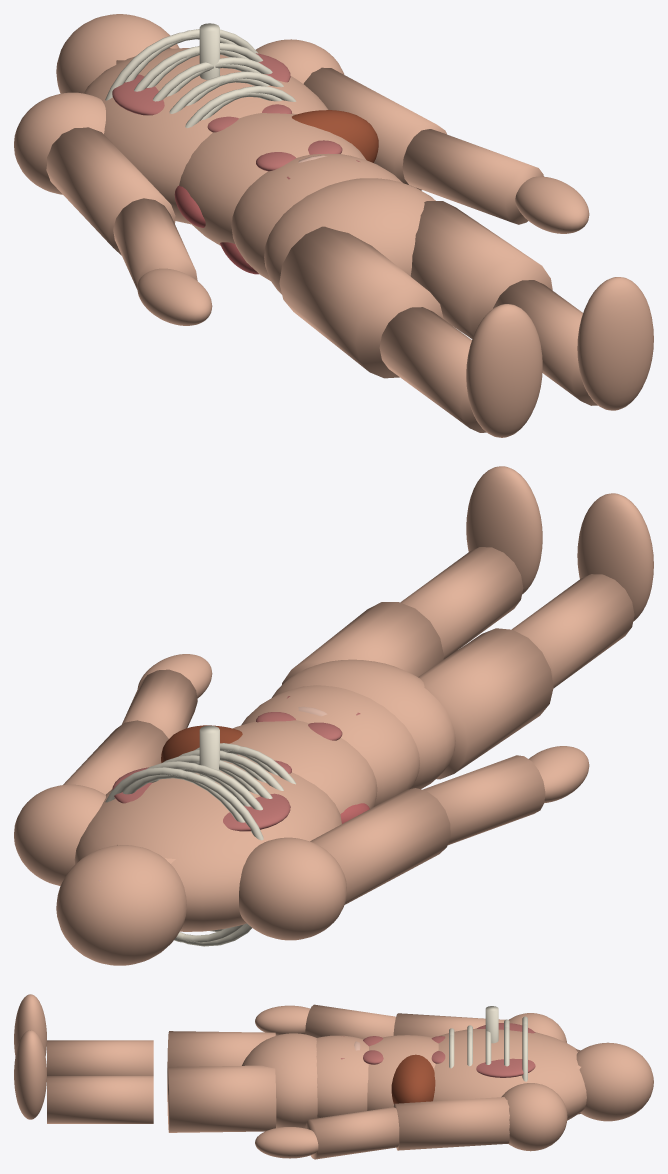
File: body_full.glb
3 views of the same model, one above another, from view 1: azimuth 30°, elevation 25°; view 2: azimuth 150°, elevation 25°; view 3: azimuth 270°, elevation 25° (orthographic). The views are drawn at different scales.
Visible parts, largest first — view 1: ANAT_REGION_LEFT_LEG, ANAT_REGION_CHEST, ANAT_REGION_RIGHT_LEG, ANAT_REGION_PELVIS, ANAT_REGION_UPPER_ABDOMEN, ANAT_REGION_LEFT_FOOT, ANAT_REGION_RIGHT_FOOT, ANAT_REGION_RIGHT_FOREARM, ANAT_REGION_LEFT_ARM, ANAT_REGION_LEFT_SHIN, ANAT_REGION_LOWER_ABDOMEN, ANAT_REGION_RIGHT_ARM (+21 smaller); view 2: ANAT_REGION_CHEST, ANAT_REGION_HEAD, ANAT_REGION_LEFT_LEG, ANAT_REGION_LEFT_SHOULDER, ANAT_REGION_LEFT_ARM, ANAT_REGION_LOWER_ABDOMEN, ANAT_REGION_PELVIS, ANAT_REGION_LEFT_SHIN, ANAT_REGION_RIGHT_SHIN, ANAT_REGION_UPPER_ABDOMEN, ANAT_REGION_LEFT_FOREARM, ANAT_REGION_RIGHT_LEG (+13 smaller); view 3: ANAT_REGION_CHEST, ANAT_REGION_RIGHT_LEG, ANAT_REGION_RIGHT_ARM, ANAT_REGION_RIGHT_SHIN, ANAT_REGION_HEAD, ANAT_REGION_PELVIS, ANAT_REGION_LOWER_ABDOMEN, ANAT_REGION_LEFT_SHIN, ANAT_REGION_RIGHT_FOREARM, ANAT_REGION_RIGHT_SHOULDER, ANAT_REGION_LEFT_LEG, ANAT_REGION_UPPER_ABDOMEN (+11 smaller).
Part boxes in pixels (bbox=[...]): ANAT_REGION_LEFT_LEG: bbox=[279, 226, 443, 378]; ANAT_REGION_CHEST: bbox=[84, 48, 328, 224]; ANAT_REGION_RIGHT_LEG: bbox=[410, 201, 552, 338]; ANAT_REGION_PELVIS: bbox=[264, 178, 435, 294]; ANAT_REGION_UPPER_ABDOMEN: bbox=[179, 113, 366, 245]; ANAT_REGION_LEFT_FOOT: bbox=[466, 304, 542, 437]; ANAT_REGION_RIGHT_FOOT: bbox=[577, 277, 653, 410]; ANAT_REGION_RIGHT_FOREARM: bbox=[402, 129, 543, 224]; ANAT_REGION_LEFT_ARM: bbox=[46, 127, 175, 255]; ANAT_REGION_LEFT_SHIN: bbox=[379, 307, 486, 432]; ANAT_REGION_LOWER_ABDOMEN: bbox=[231, 153, 402, 280]; ANAT_REGION_RIGHT_ARM: bbox=[303, 67, 446, 190]; ANAT_REGION_CHEST: bbox=[74, 755, 341, 931]; ANAT_REGION_HEAD: bbox=[56, 845, 186, 965]; ANAT_REGION_LEFT_LEG: bbox=[418, 628, 553, 779]; ANAT_REGION_LEFT_SHOULDER: bbox=[239, 837, 346, 940]; ANAT_REGION_LEFT_ARM: bbox=[310, 788, 450, 904]; ANAT_REGION_LOWER_ABDOMEN: bbox=[241, 685, 419, 806]; ANAT_REGION_PELVIS: bbox=[272, 659, 455, 789]; ANAT_REGION_LEFT_SHIN: bbox=[512, 574, 634, 688]; ANAT_REGION_RIGHT_SHIN: bbox=[400, 547, 523, 659]; ANAT_REGION_UPPER_ABDOMEN: bbox=[229, 720, 377, 813]; ANAT_REGION_LEFT_FOREARM: bbox=[423, 755, 545, 845]; ANAT_REGION_RIGHT_LEG: bbox=[282, 602, 443, 684]; ANAT_REGION_CHEST: bbox=[433, 1028, 586, 1120]; ANAT_REGION_RIGHT_LEG: bbox=[167, 1065, 276, 1132]; ANAT_REGION_RIGHT_ARM: bbox=[393, 1097, 509, 1150]; ANAT_REGION_RIGHT_SHIN: bbox=[47, 1076, 153, 1123]; ANAT_REGION_HEAD: bbox=[576, 1042, 653, 1121]; ANAT_REGION_PELVIS: bbox=[242, 1033, 317, 1128]; ANAT_REGION_LOWER_ABDOMEN: bbox=[316, 1035, 368, 1118]; ANAT_REGION_LEFT_SHIN: bbox=[47, 1040, 153, 1075]; ANAT_REGION_RIGHT_FOREARM: bbox=[305, 1107, 399, 1159]; ANAT_REGION_RIGHT_SHOULDER: bbox=[501, 1083, 567, 1151]; ANAT_REGION_LEFT_LEG: bbox=[167, 1031, 275, 1072]; ANAT_REGION_UPPER_ABDOMEN: bbox=[367, 1035, 438, 1110].
Size of the model in its own units: 0.89 by 0.385 by 1.74.
